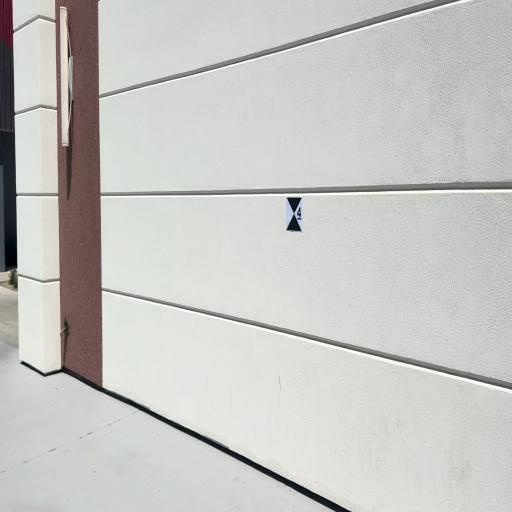target4: (286, 197, 302, 233)
